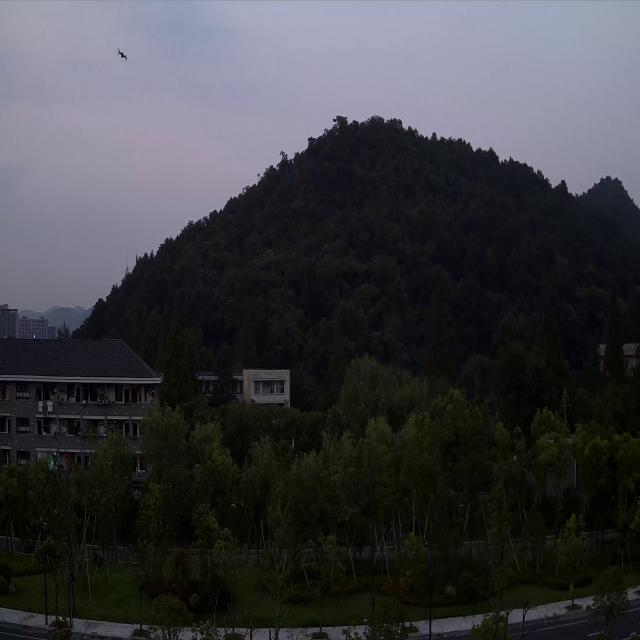UAV: (116, 47, 128, 61)
